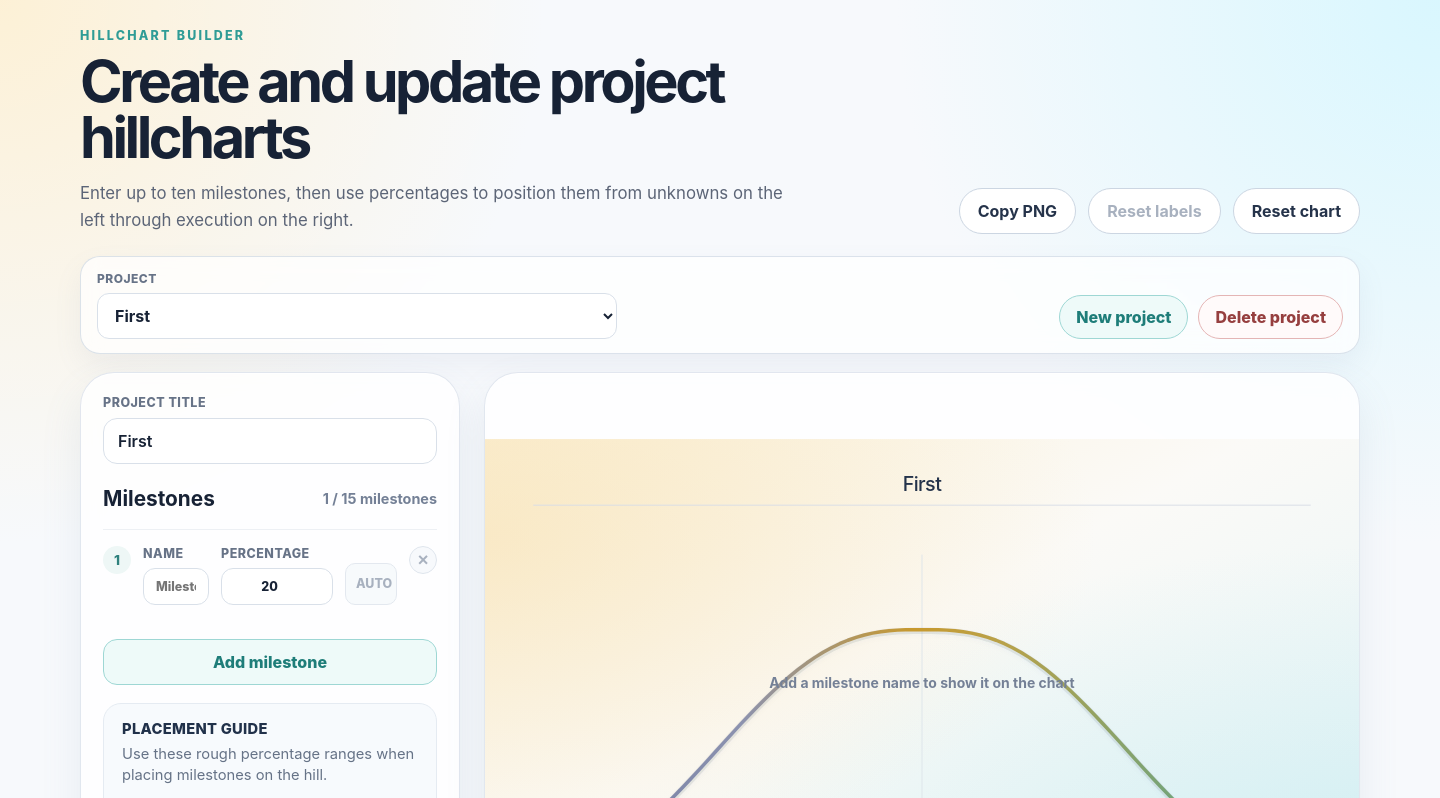
App › selects the next project after deleting the active project
Click the button "Delete project" at (1271, 317), box [1198,295,1343,339]
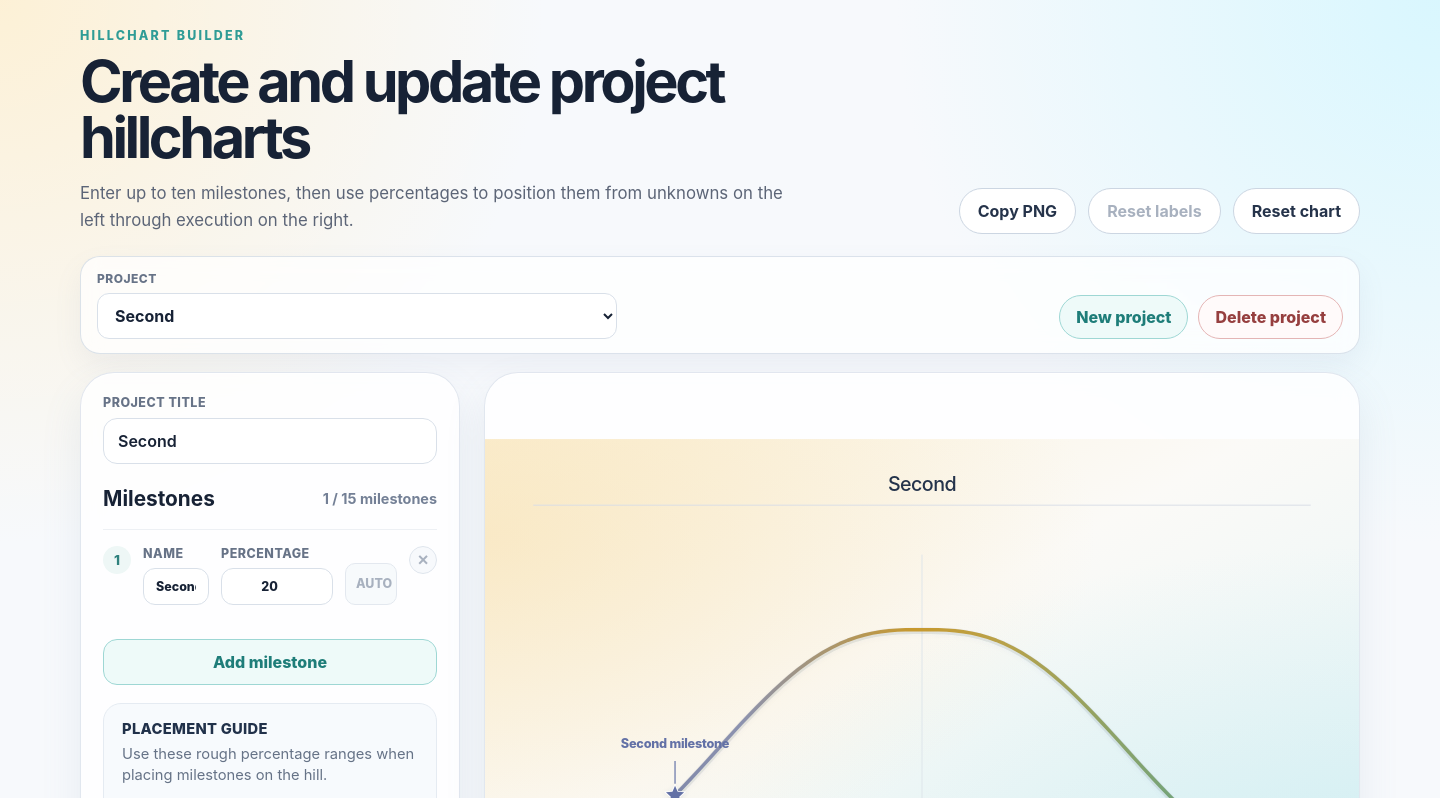
expect the field labelled "Project title" holds "Second": met, box [103,418,437,464]
